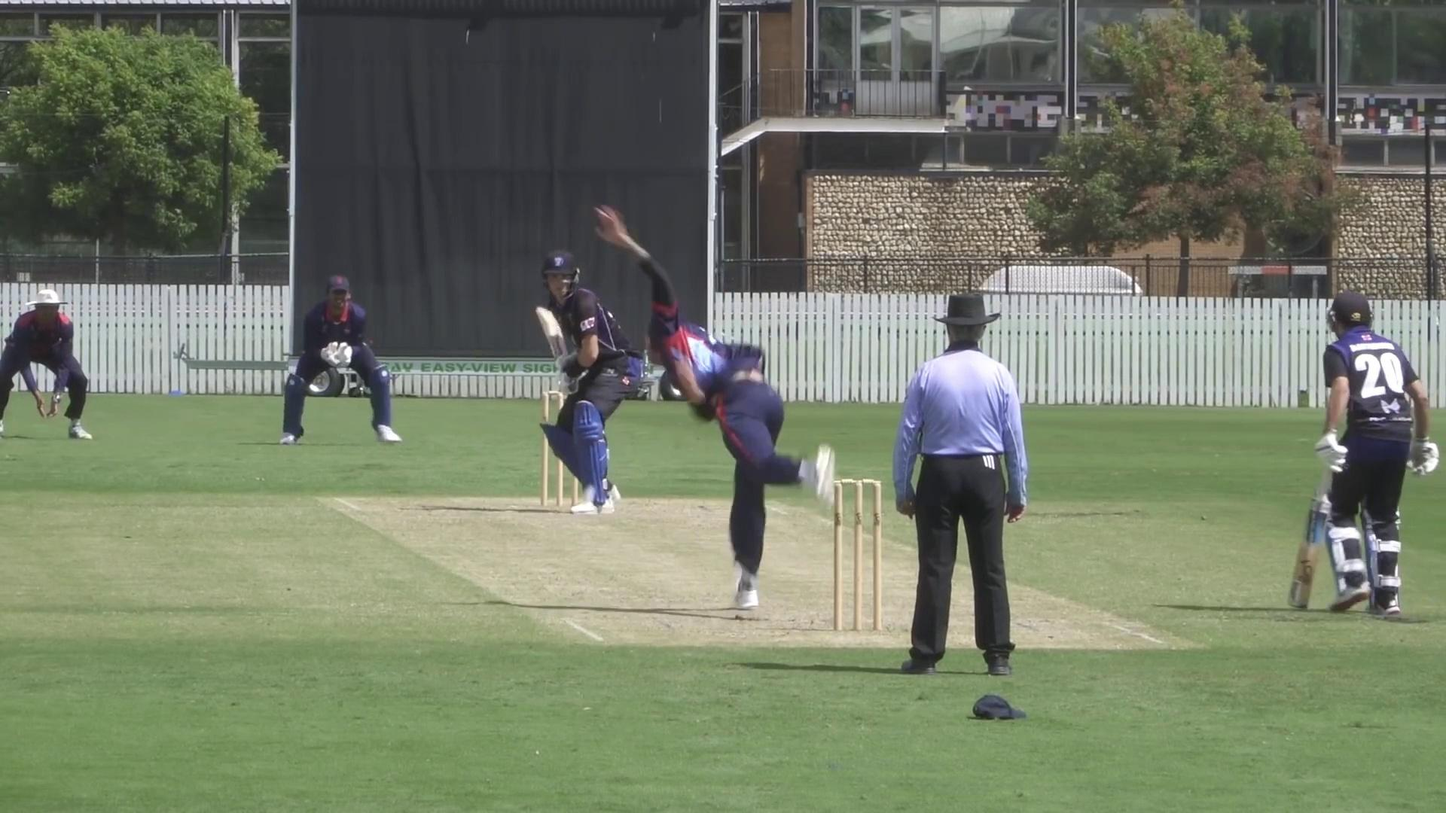ball: (576, 484, 601, 507)
